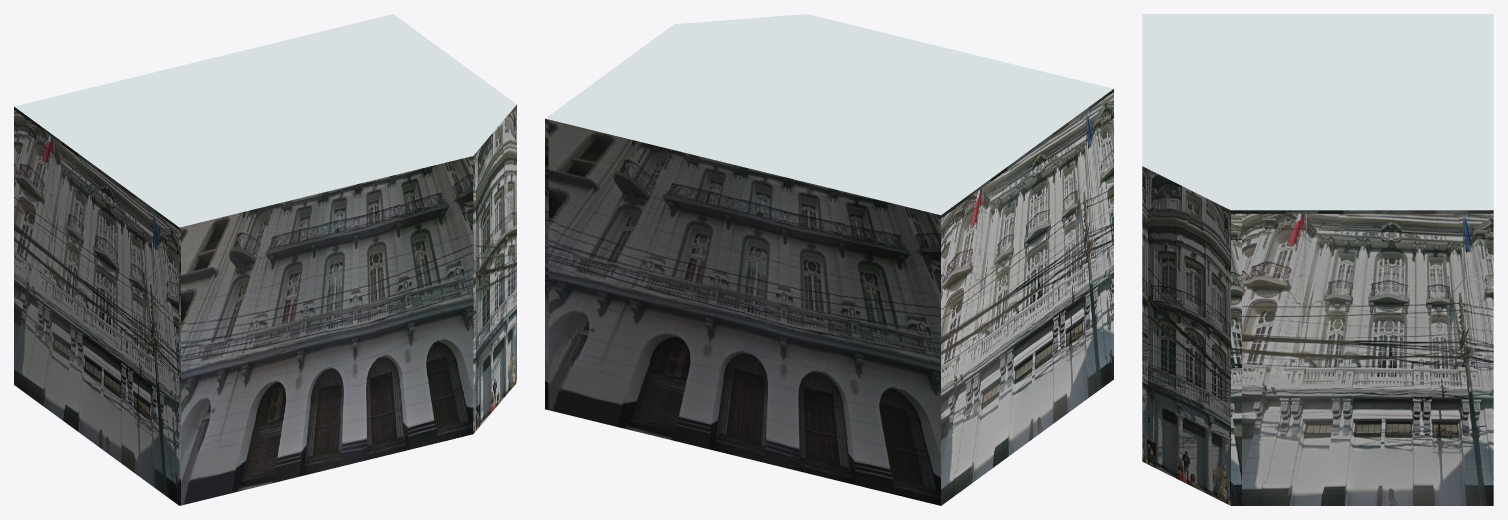
The model's file is edificiocondel.fbx.
The picture shows the model from 3 angles, left to right: view 1: azimuth 30°, elevation 25°; view 2: azimuth 150°, elevation 25°; view 3: azimuth 270°, elevation 25°; orthographic projection. The views are drawn at different scales.
Visible parts, largest first — view 1: Model; view 2: Model; view 3: Model.
Part boxes in pixels (<box>): Model: <box>14,14,516,505</box>; Model: <box>545,14,1113,505</box>; Model: <box>1142,14,1493,505</box>.
Size of the model in its own units: 101 by 70.55 by 75.99.
